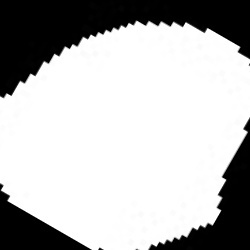spot: (2, 22, 248, 249)
